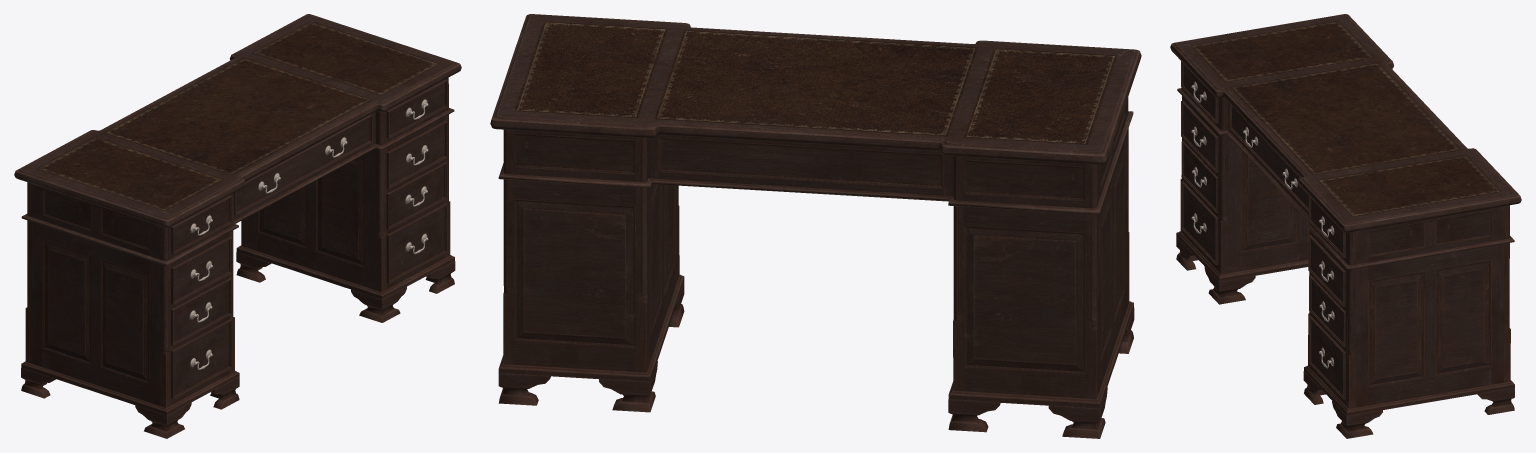
Rendered from antique_desk.glb.
3 renders of one model, left to right at view 1: azimuth 30°, elevation 25°; view 2: azimuth 150°, elevation 25°; view 3: azimuth 270°, elevation 25°, orthographic. The views are drawn at different scales.
Parts seen in each view (by area): view 1: Desk_low, Draw 2_low, Draw 1_low, Draw 3_low; view 2: Desk_low; view 3: Desk_low, Draw 2_low, Draw 3_low, Draw 1_low.
Part boxes in pixels (x1,y1,x2,y2): Desk_low: [14, 14, 461, 438]; Draw 2_low: [234, 114, 372, 215]; Draw 1_low: [171, 195, 232, 254]; Draw 3_low: [386, 79, 447, 138]; Desk_low: [490, 14, 1141, 438]; Desk_low: [1170, 14, 1521, 438]; Draw 2_low: [1229, 103, 1308, 211]; Draw 3_low: [1308, 195, 1345, 257]; Draw 1_low: [1181, 61, 1218, 123].
Size of the model in its own units: 2.55 by 1.21 by 1.78.
1 material, 1 textured.
